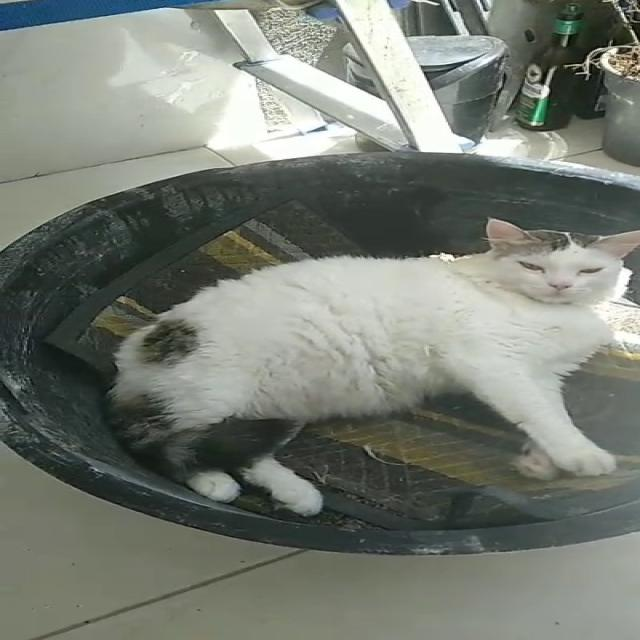Simba: (44, 214, 638, 502)
